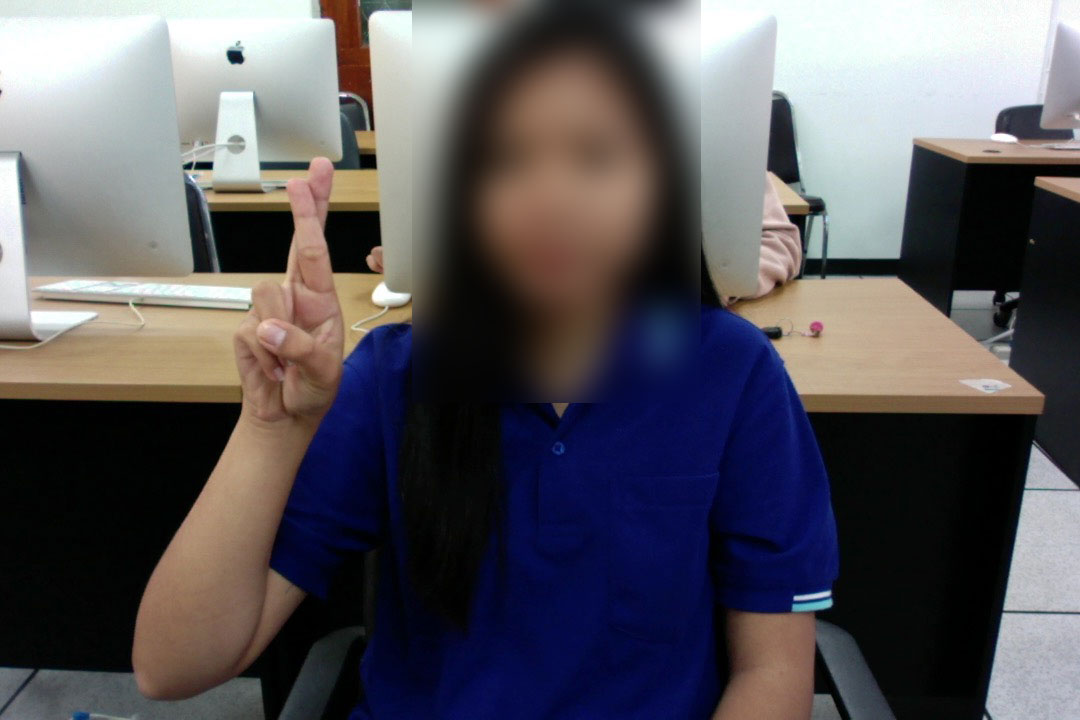rao: (217, 161, 363, 422)
